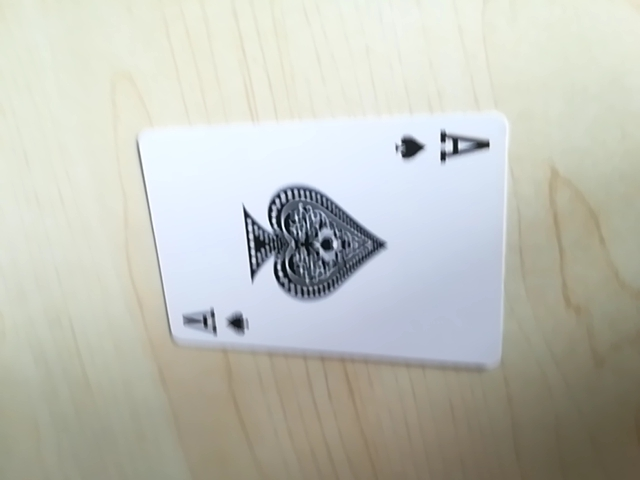ht a: (393, 122, 492, 173), (176, 301, 252, 343)
